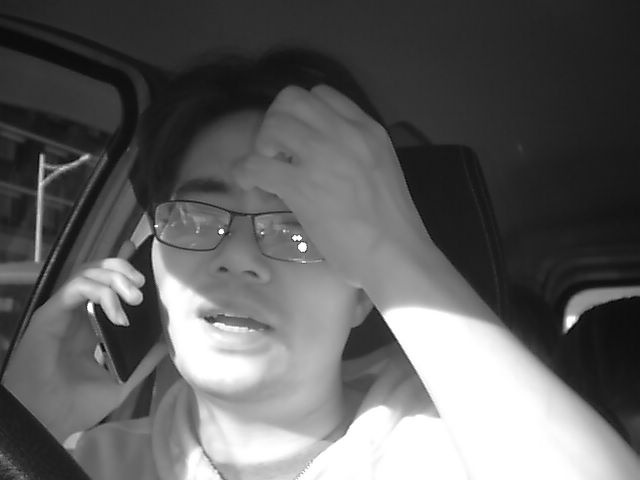hand: (251, 84, 400, 254), (31, 259, 153, 425)
